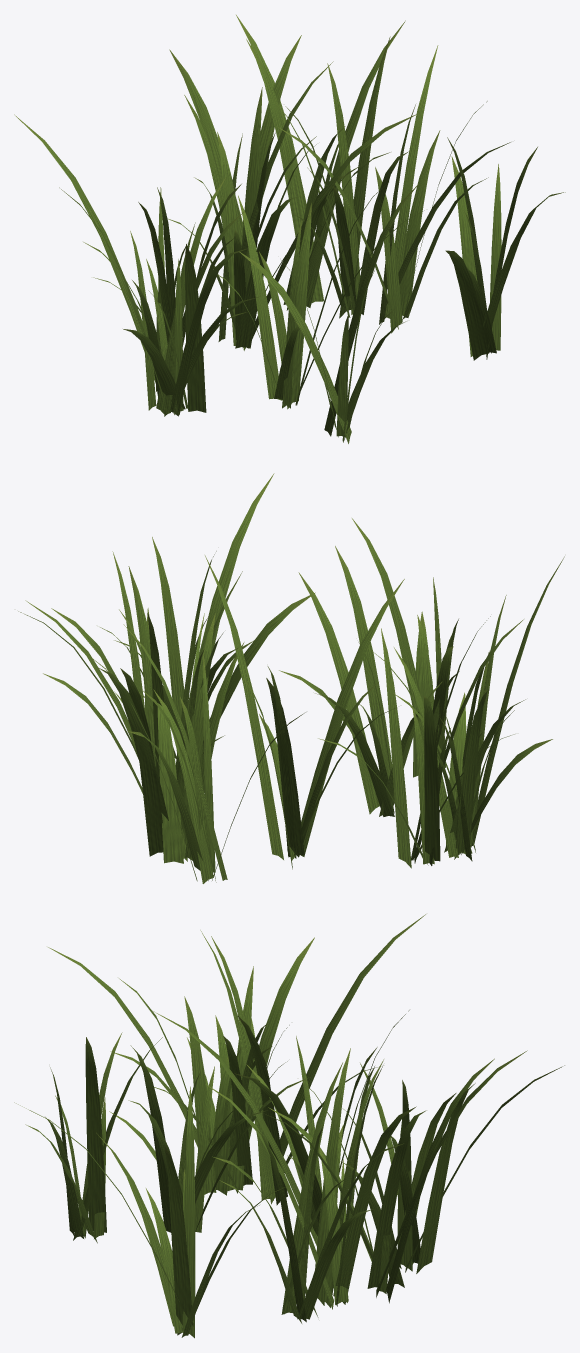
Rendered from Bentgrass_B.fbx.
3 renders of one model, top to bottom at view 1: azimuth 30°, elevation 25°; view 2: azimuth 150°, elevation 25°; view 3: azimuth 270°, elevation 25°, orthographic. The views are drawn at different scales.
Visible parts, largest first — view 1: Bentgrass_B_LOD0; view 2: Bentgrass_B_LOD0; view 3: Bentgrass_B_LOD0.
Part boxes in pixels (bbox=[...]): Bentgrass_B_LOD0: bbox=[14, 15, 565, 443]; Bentgrass_B_LOD0: bbox=[18, 473, 564, 883]; Bentgrass_B_LOD0: bbox=[14, 914, 564, 1338].
Size of what is drawn, in the model's own units: 27.99 by 15.2 by 30.44.
Materials: 1 (1 with a texture image).
